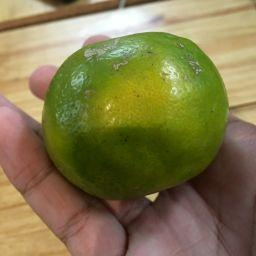Unripe: (41, 33, 228, 198)
